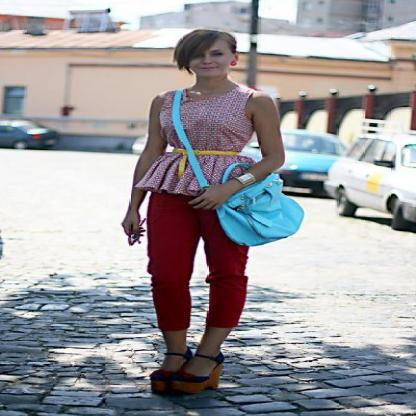bag: (160, 92, 303, 248)
pants: (138, 175, 248, 340)
shirt: (137, 75, 279, 194)
shoe: (149, 360, 236, 394)
